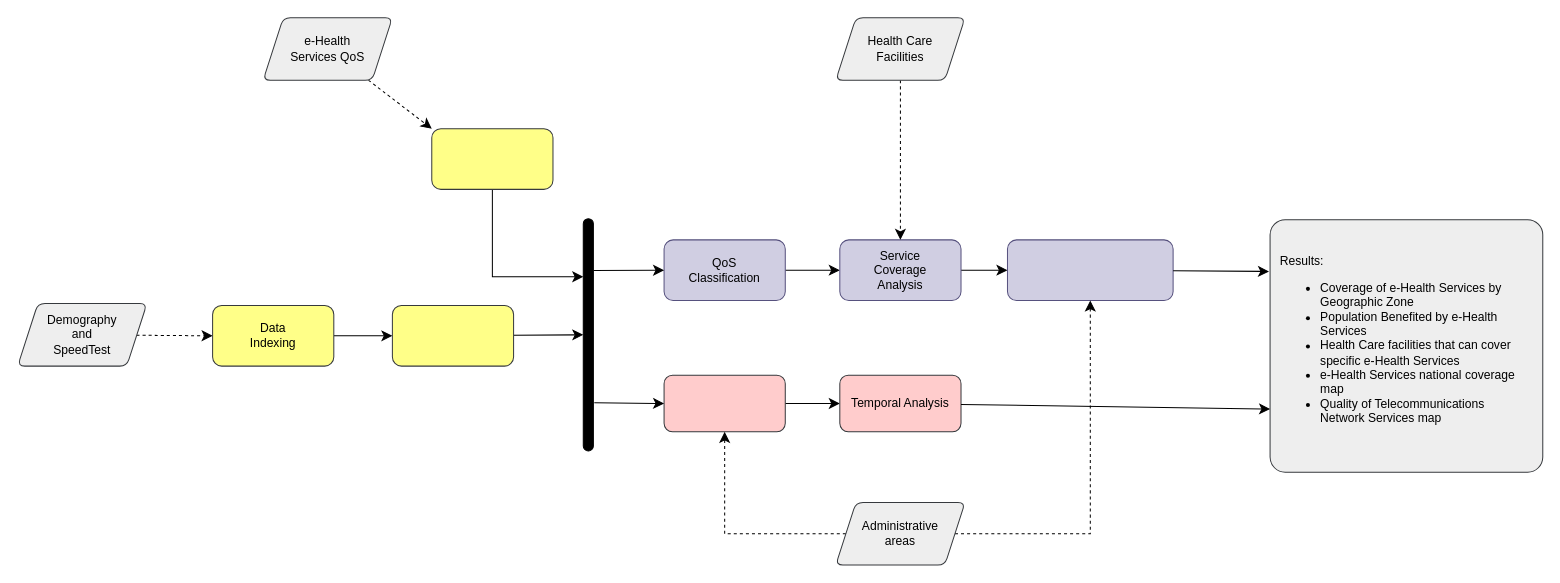
Image size: 1560x583. Some labels were removed from this diagram. The box of each missing label's shape, as (x1, y1, x2, y2) in pixels:
Data Imputation: (391, 305, 514, 366)
Health Care facilities Analysis by Service and Category: (1006, 239, 1173, 300)
Hexagons Clustering: (663, 374, 785, 432)
Ideal QoS vector: (431, 128, 553, 189)
